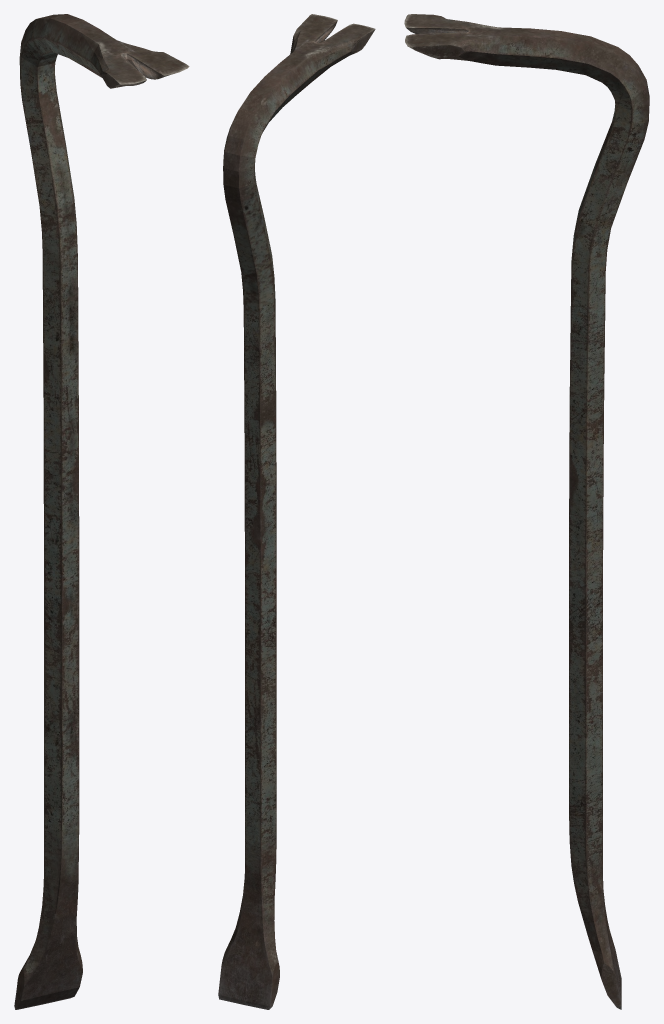
Rendered from Crowbar_LOD1.obj.
3 renders of one model, left to right at view 1: azimuth 30°, elevation 25°; view 2: azimuth 150°, elevation 25°; view 3: azimuth 270°, elevation 25°, orthographic. The views are drawn at different scales.
Parts seen in each view (by area): view 1: Cube_001; view 2: Cube_001; view 3: Cube_001.
Part boxes in pixels (x1=…): Cube_001: x1=14, y1=14, x2=189, y2=1009; Cube_001: x1=218, y1=14, x2=375, y2=1009; Cube_001: x1=404, y1=14, x2=649, y2=1009.
Bounding box in the file's own units: 0.0404 × 0.5554 × 0.1276.
1 material, 1 textured.
